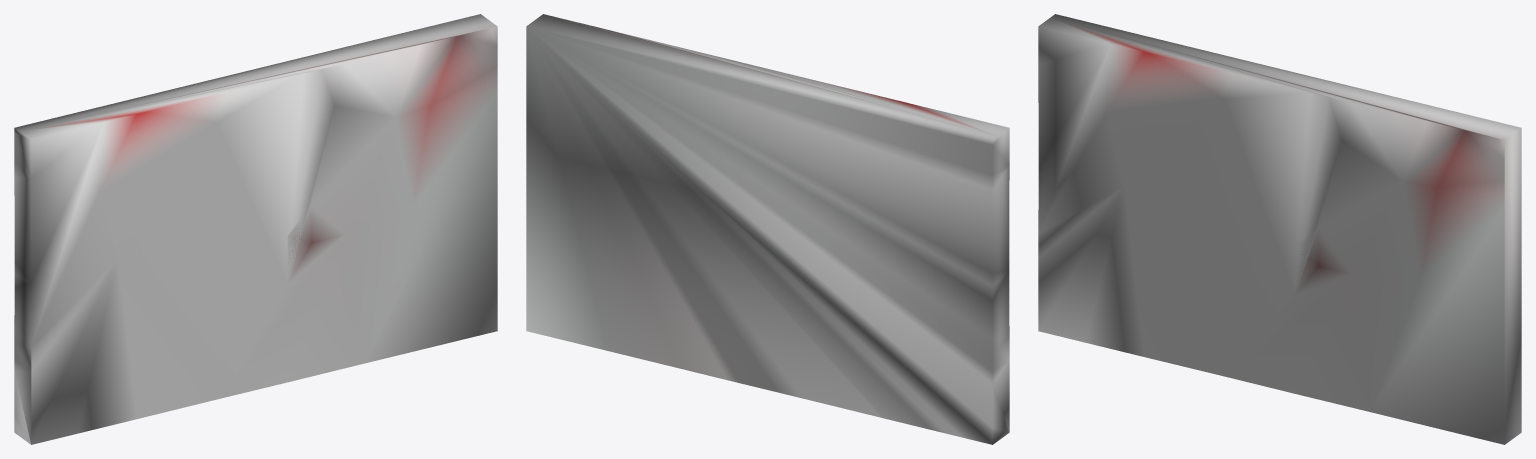
Rendered from SM_FA_Factory_W320_H200.fbx.
The picture shows the model from 3 angles, left to right: view 1: azimuth 30°, elevation 25°; view 2: azimuth 150°, elevation 25°; view 3: azimuth 330°, elevation 25°; orthographic projection.
Visible parts, largest first — view 1: SM_FA_Factory_W320_H200; view 2: SM_FA_Factory_W320_H200; view 3: SM_FA_Factory_W320_H200.
Boxes of the visible parts, bbox=[...] form: SM_FA_Factory_W320_H200: bbox=[14, 14, 497, 444]; SM_FA_Factory_W320_H200: bbox=[526, 14, 1009, 444]; SM_FA_Factory_W320_H200: bbox=[1038, 14, 1521, 444].
Size of the model in its own units: 320 by 20 by 200.
